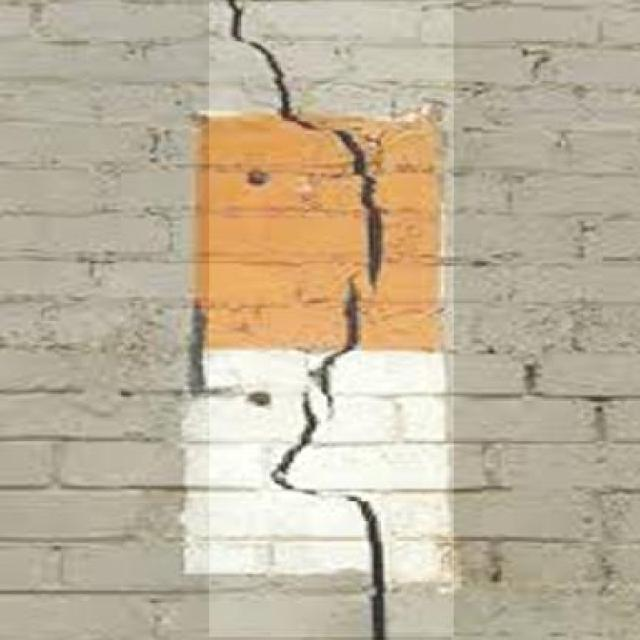SurfaceCrack: (206, 8, 462, 640)
